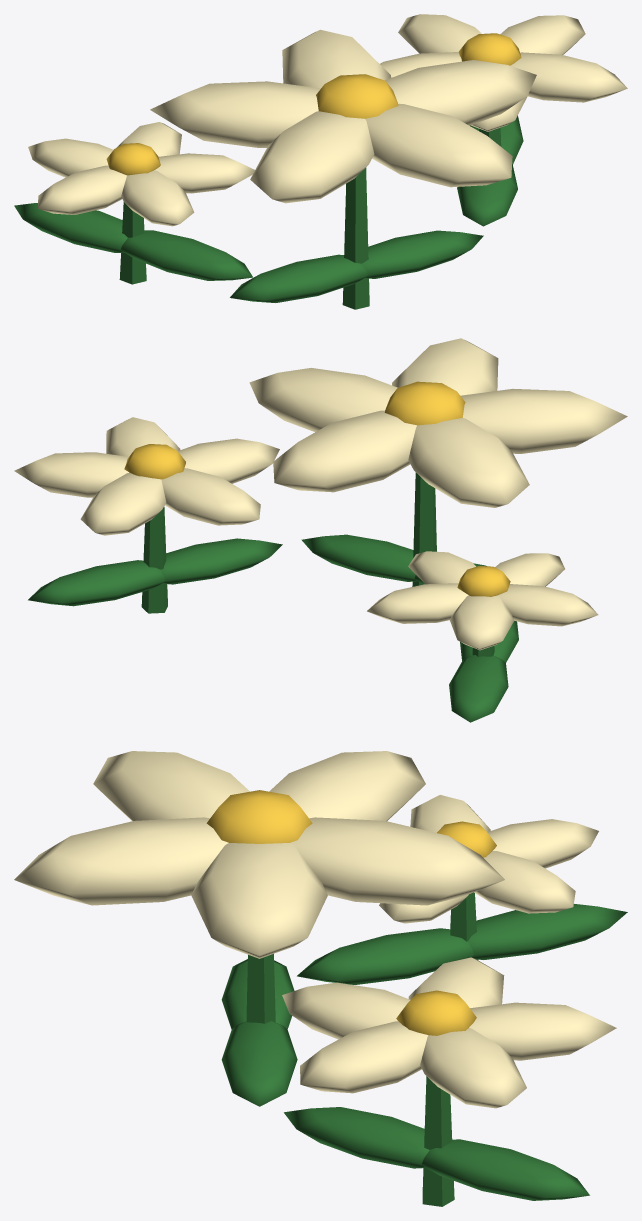
The picture shows the model from 3 angles, top to bottom: view 1: azimuth 30°, elevation 25°; view 2: azimuth 150°, elevation 25°; view 3: azimuth 270°, elevation 25°; orthographic projection. The views are drawn at different scales.
Visible parts, largest first — view 1: flower-chunky-cream; view 2: flower-chunky-cream; view 3: flower-chunky-cream.
Part boxes in pixels (x1=…): flower-chunky-cream: x1=14, y1=14, x2=627, y2=309; flower-chunky-cream: x1=14, y1=338, x2=627, y2=722; flower-chunky-cream: x1=14, y1=751, x2=627, y2=1206.
Bounding box in the file's own units: 1.61 × 0.605 × 1.21.
